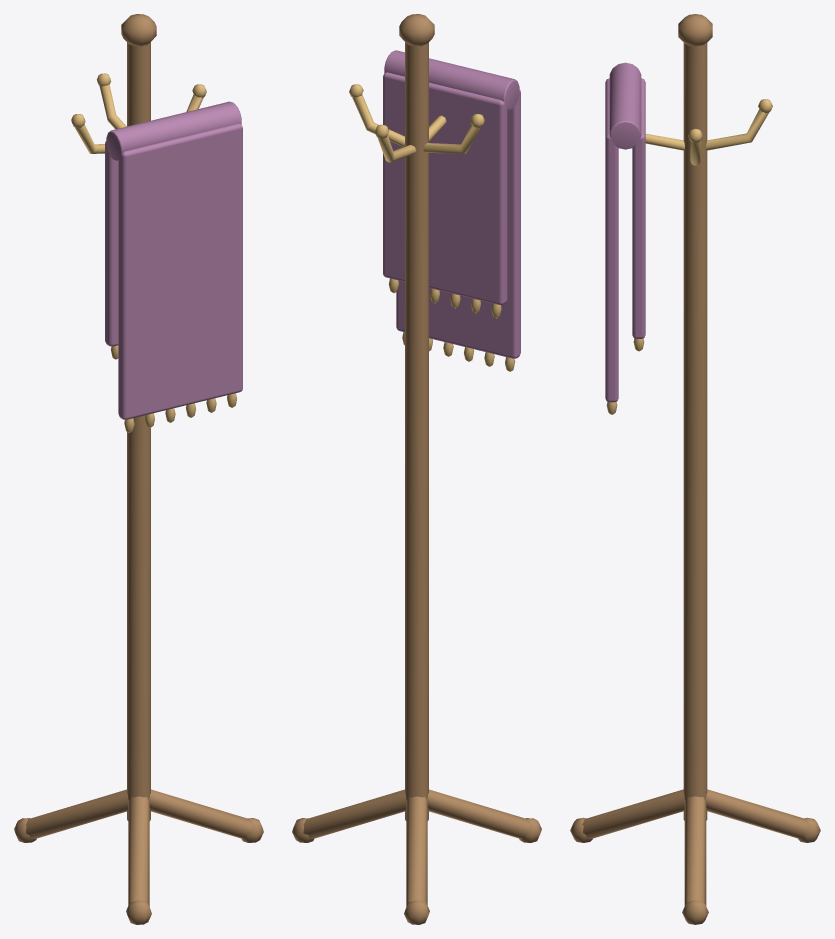
The model's file is Hat_Stand.fbx.
The picture shows the model from 3 angles, left to right: view 1: azimuth 30°, elevation 25°; view 2: azimuth 150°, elevation 25°; view 3: azimuth 270°, elevation 25°; orthographic projection.
Parts seen in each view (by area): view 1: Hat_Stand_Mesh; view 2: Hat_Stand_Mesh; view 3: Hat_Stand_Mesh.
Part boxes in pixels (box(x1,y1,x2,y2)): Hat_Stand_Mesh: box(14, 14, 263, 924); Hat_Stand_Mesh: box(292, 14, 541, 924); Hat_Stand_Mesh: box(570, 14, 820, 924).
Size of the model in its own units: 0.41 by 1.75 by 0.4657.
